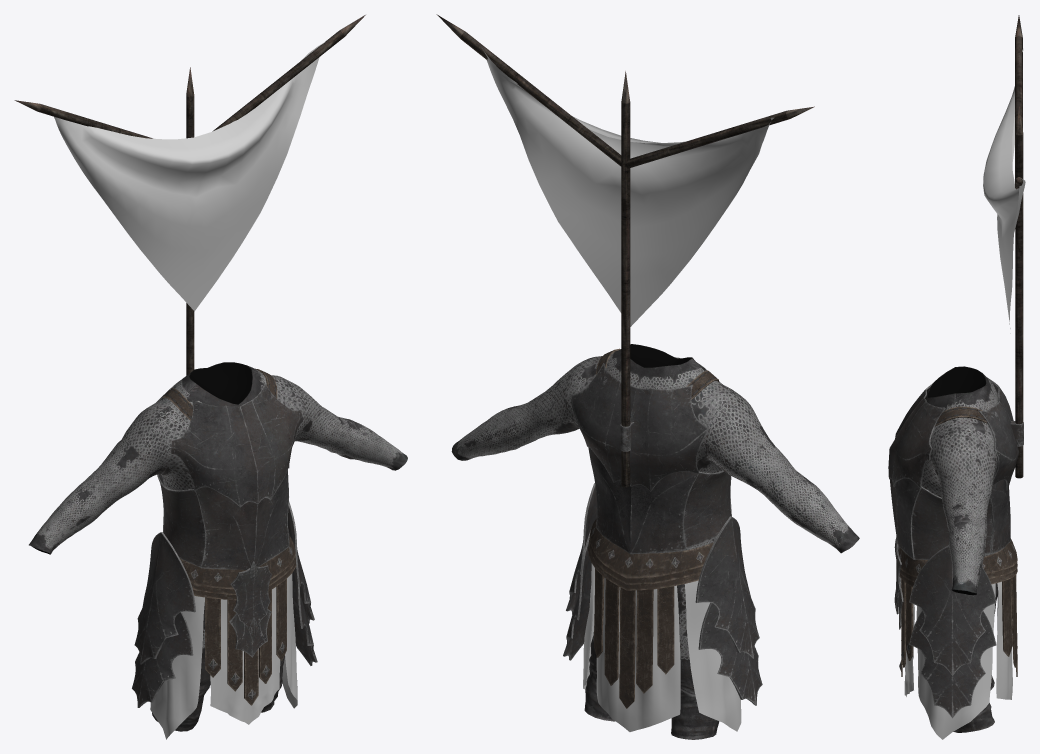
Rendered from sk_uruk_mordor_chainmail_captain_d1.fbx.
3 renders of one model, left to right at view 1: azimuth 30°, elevation 25°; view 2: azimuth 150°, elevation 25°; view 3: azimuth 270°, elevation 25°, orthographic. The views are drawn at different scales.
Visible parts, largest first — view 1: sk_uruk_mordor_chainmail_captain_d1.2, sk_uruk_mordor_chainmail_captain_d1.4, sk_uruk_mordor_chainmail_captain_d1.0, sk_uruk_mordor_chainmail_captain_d1.1, sk_uruk_mordor_chainmail_captain_d1.3; view 2: sk_uruk_mordor_chainmail_captain_d1.2, sk_uruk_mordor_chainmail_captain_d1.4, sk_uruk_mordor_chainmail_captain_d1.0, sk_uruk_mordor_chainmail_captain_d1.1; view 3: sk_uruk_mordor_chainmail_captain_d1.4, sk_uruk_mordor_chainmail_captain_d1.0, sk_uruk_mordor_chainmail_captain_d1.2, sk_uruk_mordor_chainmail_captain_d1.1, sk_uruk_mordor_chainmail_captain_d1.3.
Part boxes in pixels (<box>): sk_uruk_mordor_chainmail_captain_d1.2: <box>54,42,324,739</box>; sk_uruk_mordor_chainmail_captain_d1.4: <box>132,380,317,707</box>; sk_uruk_mordor_chainmail_captain_d1.0: <box>29,362,407,731</box>; sk_uruk_mordor_chainmail_captain_d1.1: <box>14,15,365,705</box>; sk_uruk_mordor_chainmail_captain_d1.3: <box>229,561,271,657</box>; sk_uruk_mordor_chainmail_captain_d1.2: <box>482,48,774,731</box>; sk_uruk_mordor_chainmail_captain_d1.4: <box>563,357,762,705</box>; sk_uruk_mordor_chainmail_captain_d1.0: <box>451,344,859,739</box>; sk_uruk_mordor_chainmail_captain_d1.1: <box>436,14,814,708</box>; sk_uruk_mordor_chainmail_captain_d1.4: <box>888,377,1019,718</box>; sk_uruk_mordor_chainmail_captain_d1.0: <box>921,366,998,732</box>; sk_uruk_mordor_chainmail_captain_d1.2: <box>904,48,1025,739</box>; sk_uruk_mordor_chainmail_captain_d1.1: <box>898,15,1023,676</box>; sk_uruk_mordor_chainmail_captain_d1.3: <box>894,536,903,629</box>.
Bounding box in the file's own units: 1.37 × 0.4531 × 2.24.
